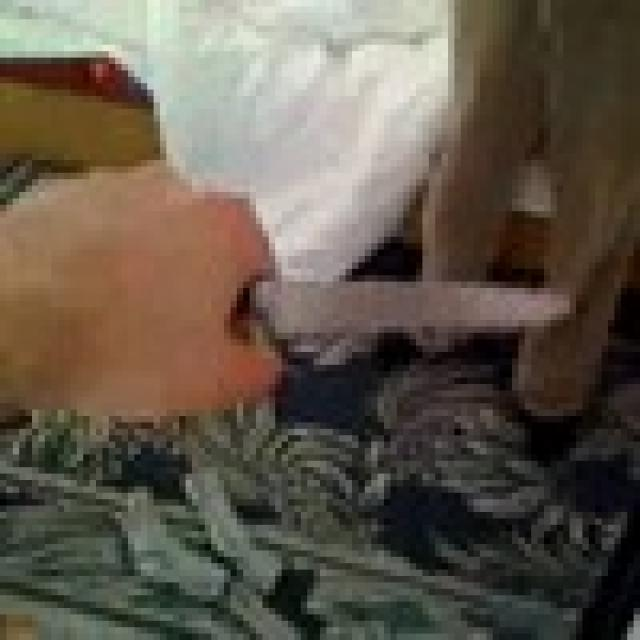Knife_Handle: (0, 160, 576, 416)
